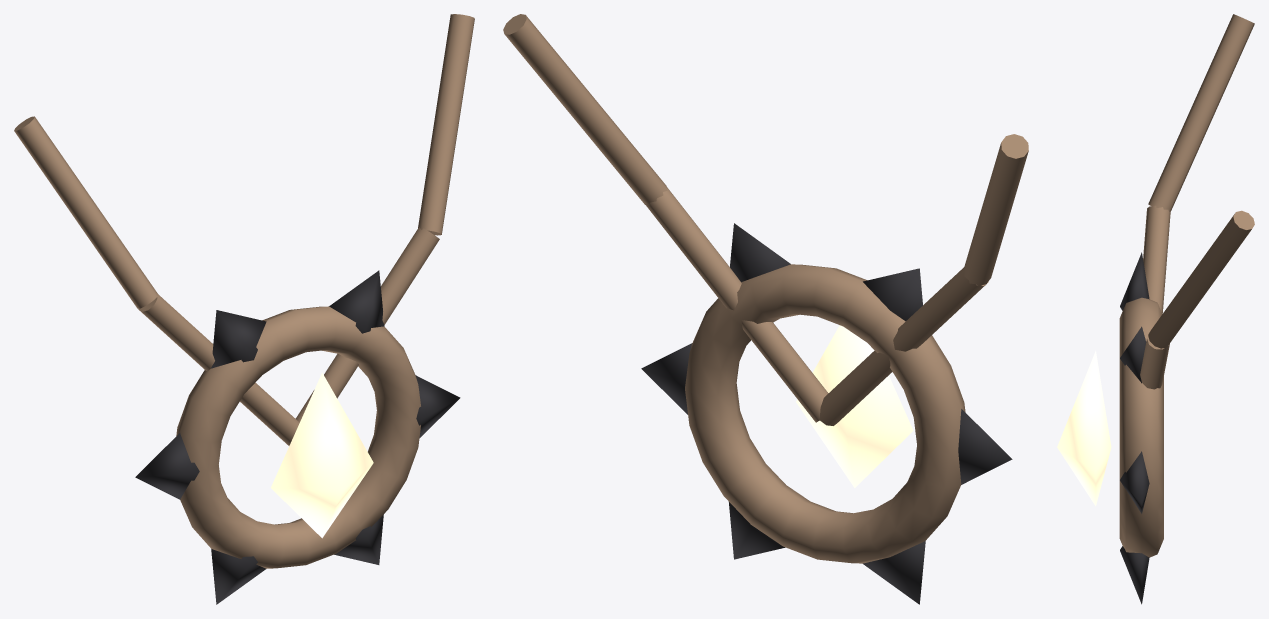
File: boss_ashfall_pilgrim_accessory_3.glb
3 views of the same model, side by side, from view 1: azimuth 30°, elevation 25°; view 2: azimuth 150°, elevation 25°; view 3: azimuth 270°, elevation 25° (orthographic). The views are drawn at different scales.
Visible parts, largest first — view 1: Boss_ashfall_pilgrim_1, Boss_ashfall_pilgrim_0, Boss_ashfall_pilgrim_2; view 2: Boss_ashfall_pilgrim_1, Boss_ashfall_pilgrim_0, Boss_ashfall_pilgrim_2; view 3: Boss_ashfall_pilgrim_1, Boss_ashfall_pilgrim_2, Boss_ashfall_pilgrim_0.
Boxes of the visible parts, box(x1,y1,x2,y2) form: Boss_ashfall_pilgrim_1: box(14, 14, 474, 568); Boss_ashfall_pilgrim_0: box(135, 270, 460, 604); Boss_ashfall_pilgrim_2: box(271, 372, 373, 538); Boss_ashfall_pilgrim_1: box(503, 14, 1028, 563); Boss_ashfall_pilgrim_0: box(641, 223, 1012, 604); Boss_ashfall_pilgrim_2: box(796, 325, 913, 487); Boss_ashfall_pilgrim_1: box(1119, 14, 1254, 557); Boss_ashfall_pilgrim_2: box(1057, 350, 1111, 506); Boss_ashfall_pilgrim_0: box(1120, 252, 1149, 604).
Size of the model in its own units: 0.2925 by 0.2941 by 0.1162.
